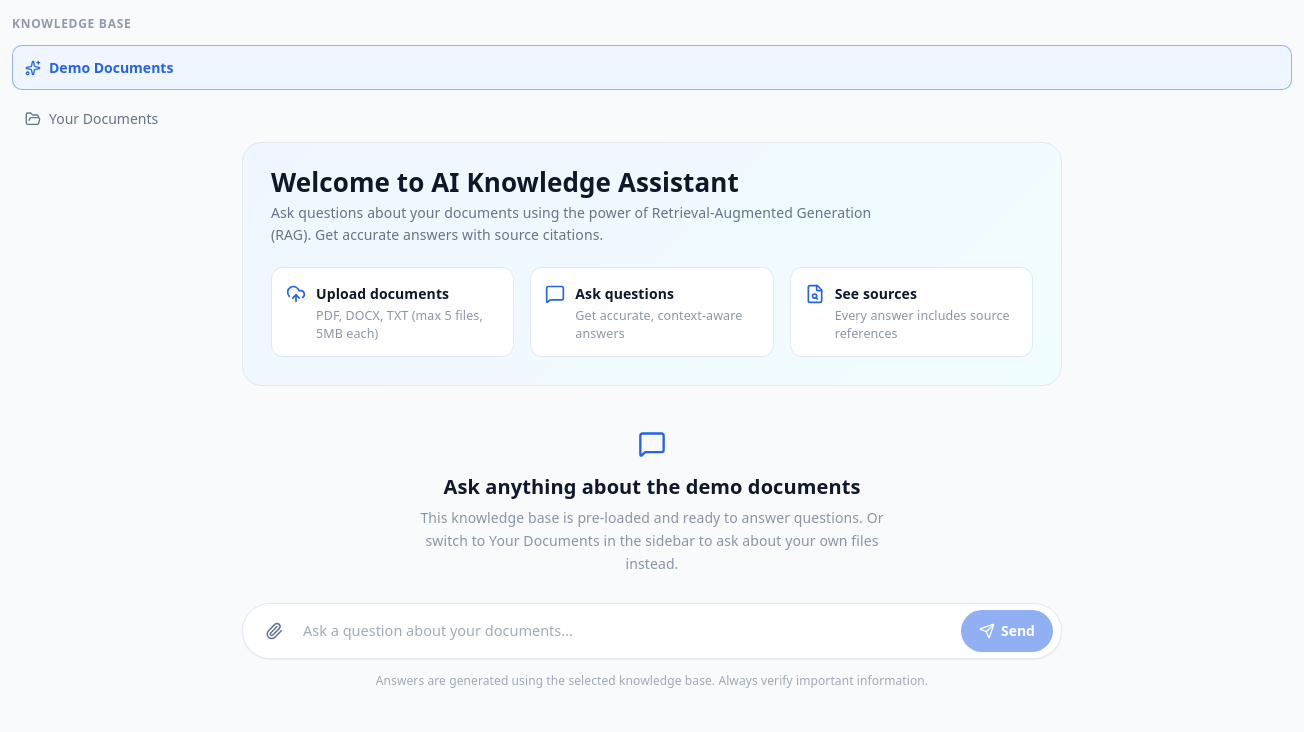
it: ChatPanel › disables the input for a user knowledge base with zero ready documents
This screenshot has width=1304, height=732.
Click the tab "Your Documents" at (104, 119), box [12,96,1292,142]
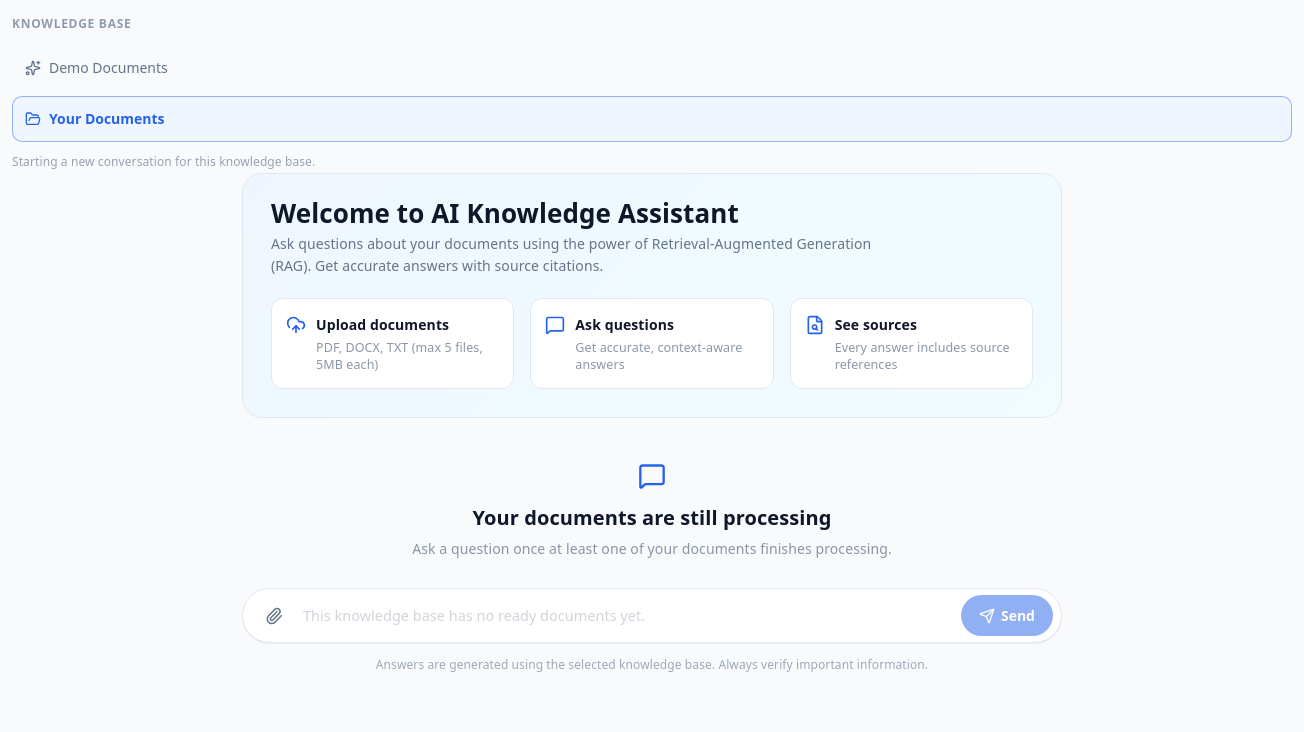
expect the field with placeholder "This knowledge base has no ready documents yet." is disabled: met, box [299,596,953,635]
